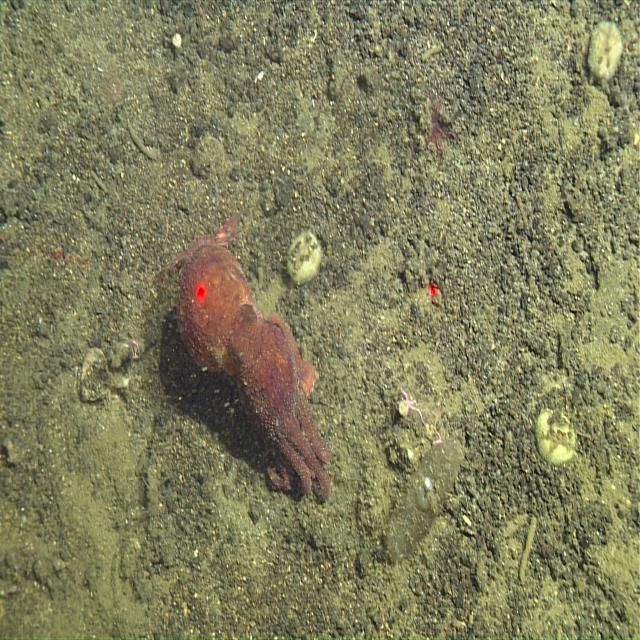Brittle Star: (422, 81, 452, 159)
